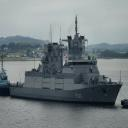Fragata: (9, 14, 125, 109)
